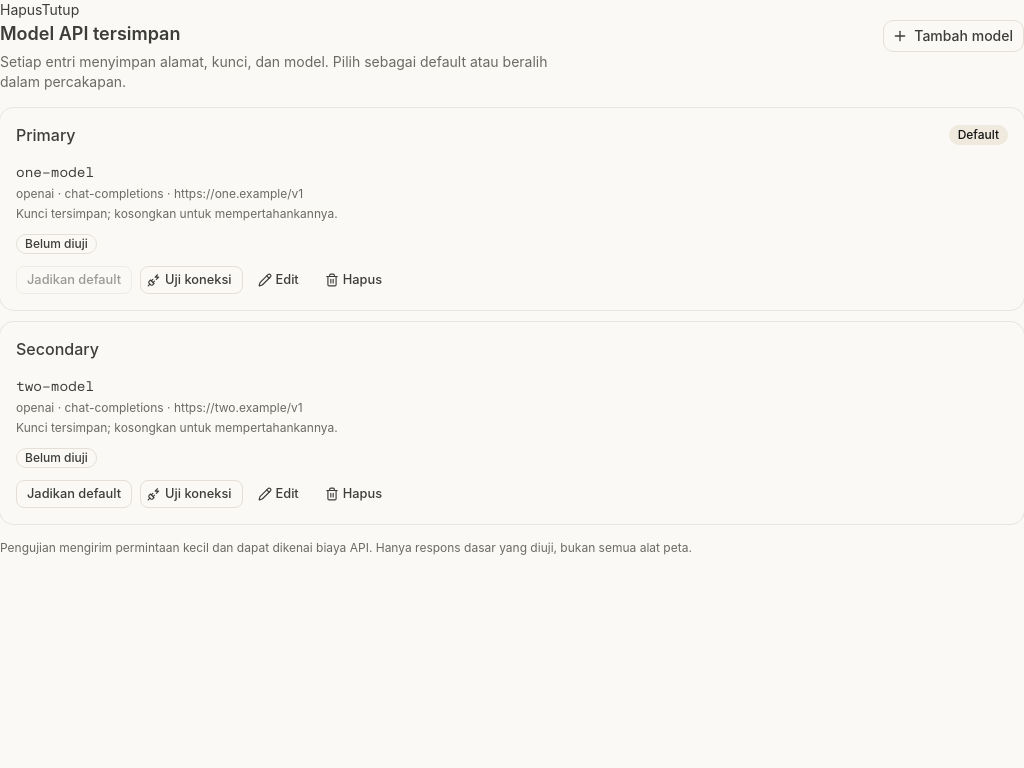
Test: API profile settings › labels the delete-dialog close action in id
Click the button "Hapus" below "https://two.example/v1".
click(355, 494)  # box [318,480,393,508]
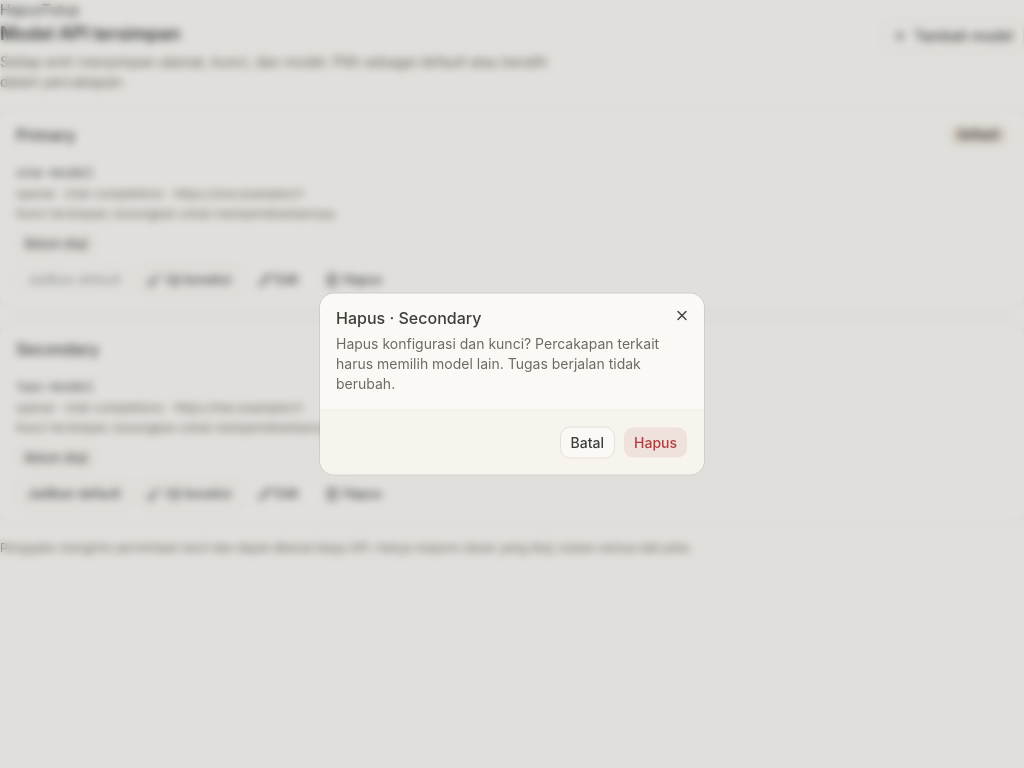
Click the button named "Tutup".
click(682, 316)  # box [668,302,696,330]
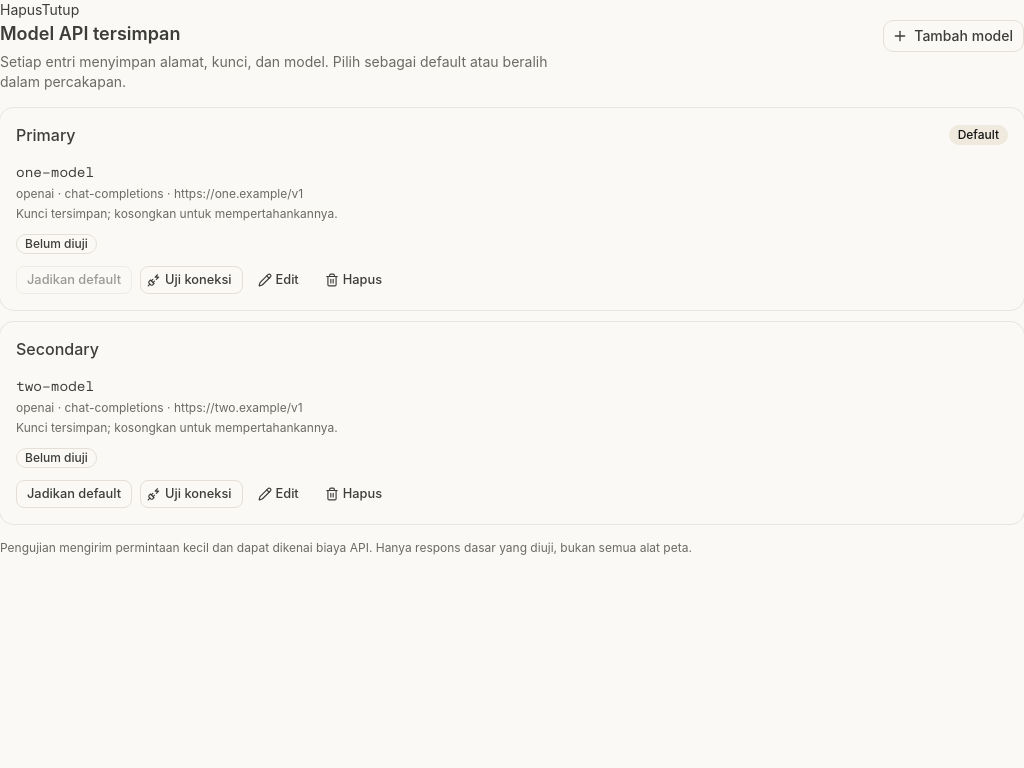
Check: the dialog is gone
